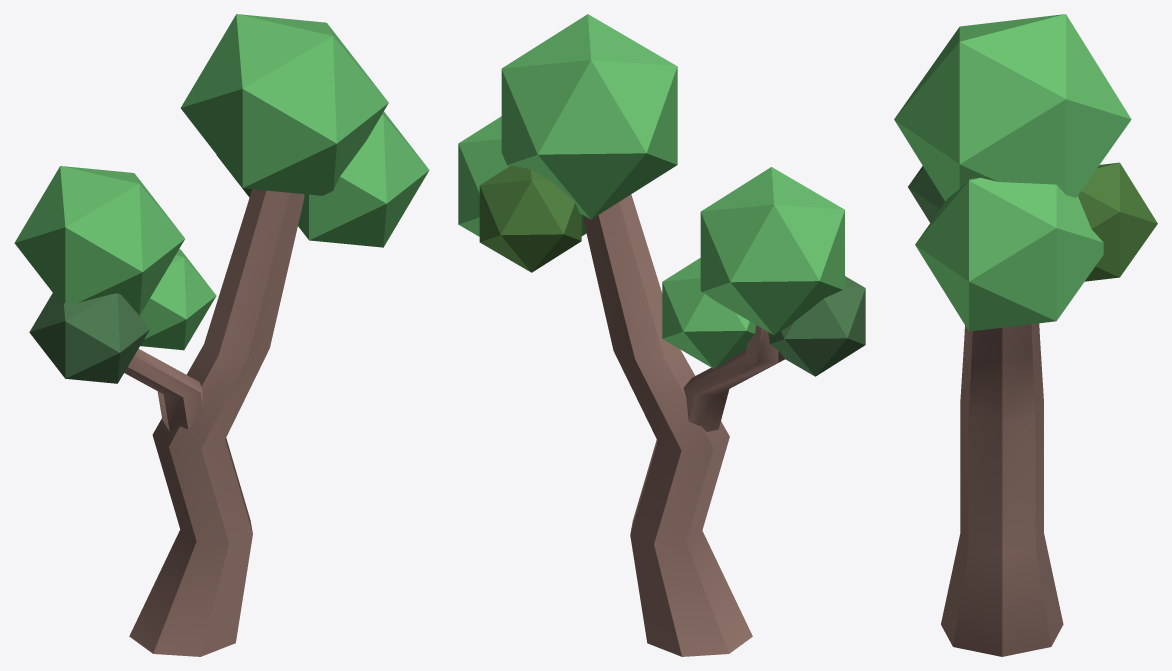
The model's file is tree_basic.fbx.
3 views of the same model, side by side, from view 1: azimuth 30°, elevation 25°; view 2: azimuth 150°, elevation 25°; view 3: azimuth 270°, elevation 25° (orthographic). The views are drawn at different scales.
Visible parts, largest first — view 1: pCylinder10, pPlatonic1, pPlatonic2, pPlatonic3, pPlatonic4, pPlatonic5, pCylinder11; view 2: pCylinder10, pPlatonic1, pPlatonic2, pPlatonic6, pPlatonic5, pPlatonic4, pCylinder11, pPlatonic3; view 3: pPlatonic1, pCylinder10, pPlatonic3, pPlatonic6, pPlatonic4.
Boxes of the visible parts, x1=… form: pCylinder10: x1=129, y1=189, x2=304, y2=656; pPlatonic1: x1=180, y1=14, x2=388, y2=195; pPlatonic2: x1=14, y1=166, x2=184, y2=315; pPlatonic3: x1=298, y1=111, x2=429, y2=247; pPlatonic4: x1=29, y1=293, x2=149, y2=383; pPlatonic5: x1=139, y1=249, x2=216, y2=350; pCylinder11: x1=124, y1=349, x2=202, y2=431; pCylinder10: x1=583, y1=194, x2=752, y2=656; pPlatonic1: x1=501, y1=14, x2=677, y2=219; pPlatonic2: x1=700, y1=167, x2=844, y2=335; pPlatonic6: x1=479, y1=165, x2=581, y2=272; pPlatonic5: x1=662, y1=258, x2=755, y2=369; pPlatonic4: x1=768, y1=276, x2=865, y2=376; pCylinder11: x1=683, y1=325, x2=784, y2=431; pPlatonic3: x1=458, y1=116, x2=586, y2=236; pPlatonic1: x1=894, y1=14, x2=1131, y2=201; pCylinder10: x1=941, y1=323, x2=1063, y2=656; pPlatonic3: x1=915, y1=177, x2=1103, y2=331; pPlatonic6: x1=1078, y1=162, x2=1157, y2=281; pPlatonic4: x1=908, y1=166, x2=944, y2=222.
Size of the model in its own units: 4.24 by 6.14 by 2.22.
